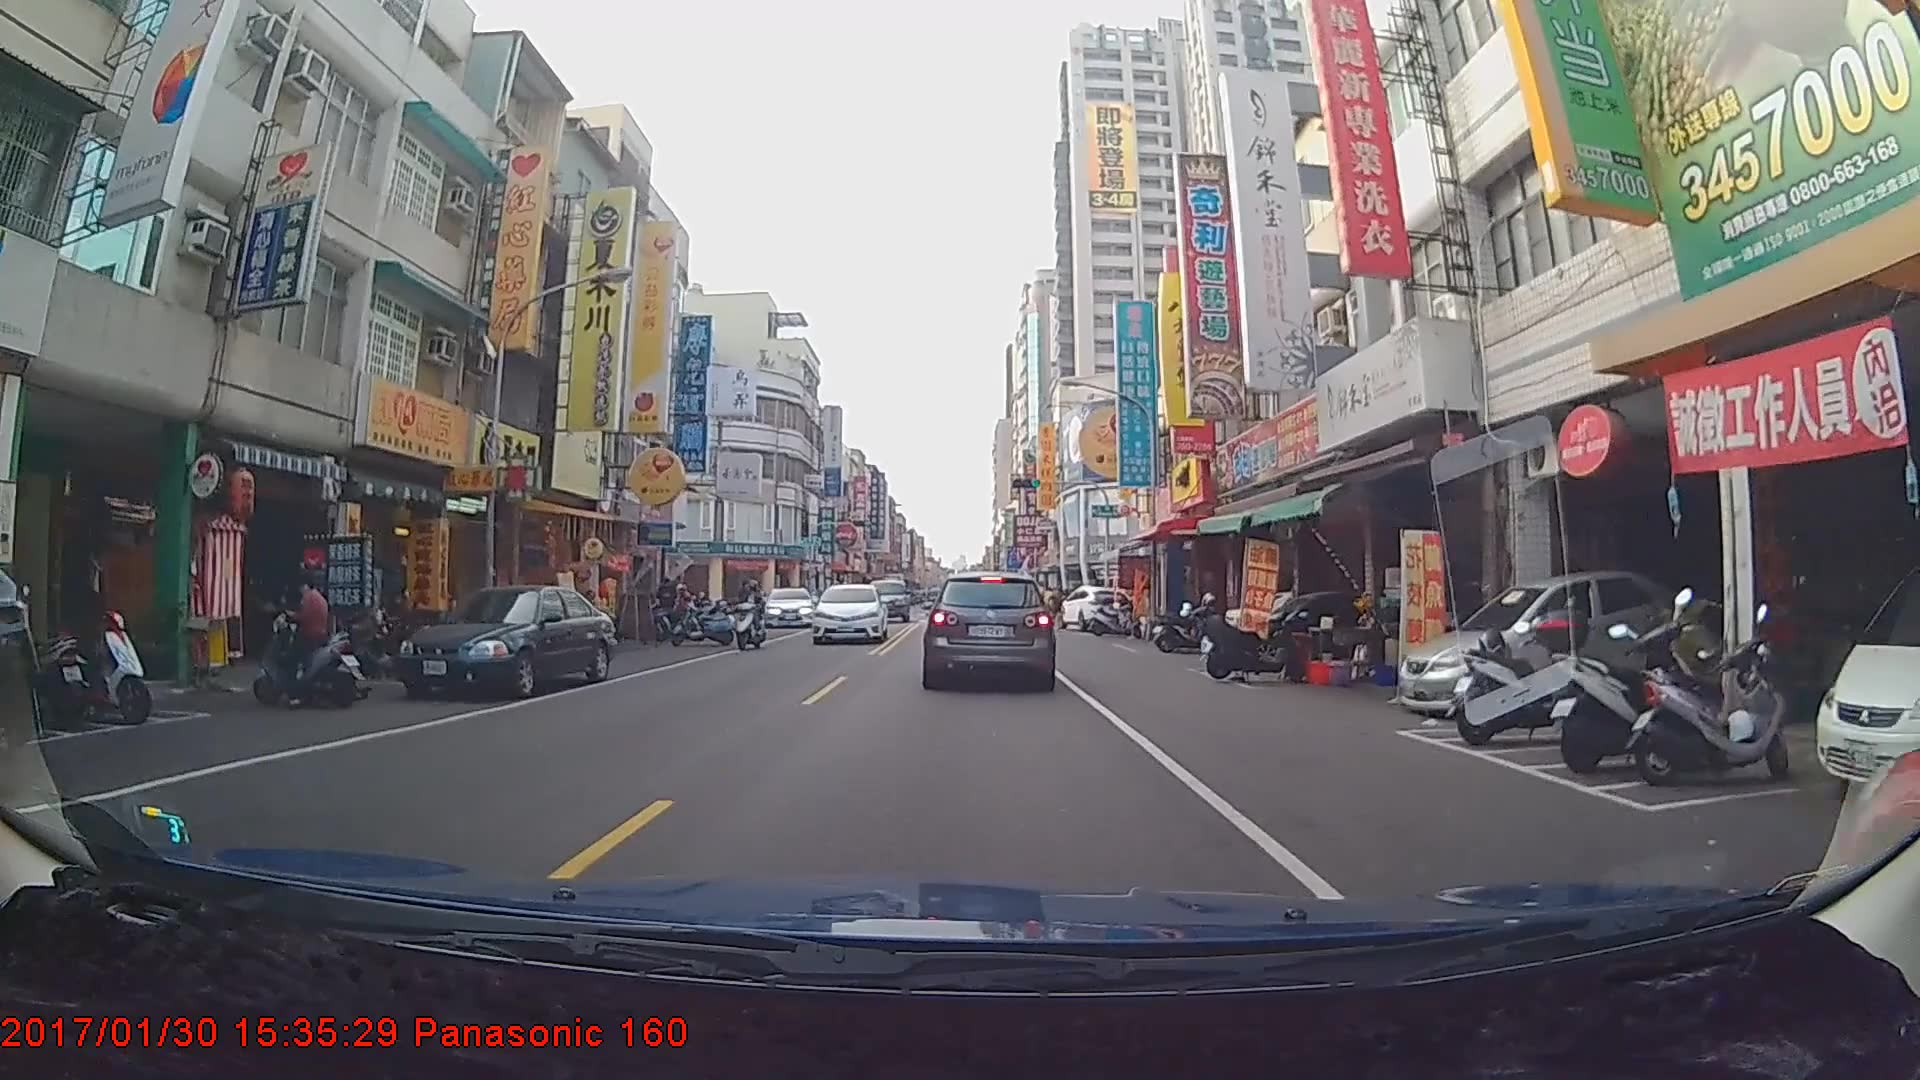pedestrian: (1047, 588, 1067, 636)
rider: (252, 569, 371, 715), (730, 583, 772, 653)
vehicle: (395, 585, 619, 695), (924, 569, 1053, 688), (811, 577, 885, 641), (1056, 582, 1137, 632), (762, 584, 817, 627), (862, 577, 908, 622)
